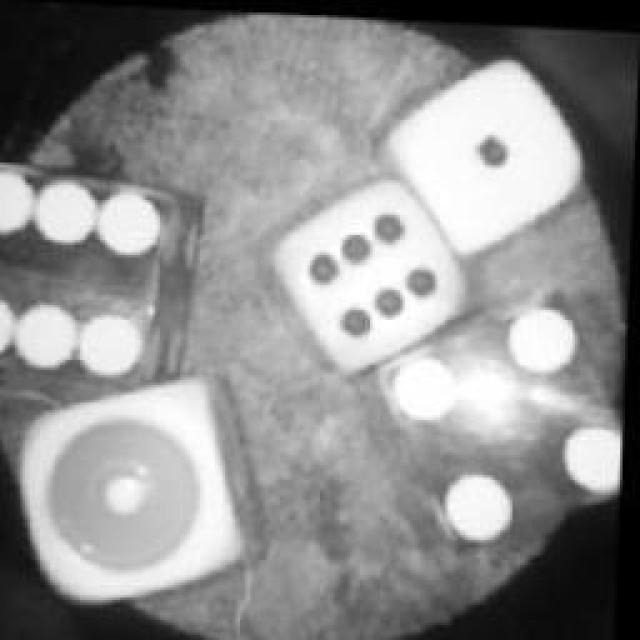dice_1: (13, 378, 265, 604), (390, 50, 592, 245)
dice_4: (386, 285, 629, 555)
dice_6: (0, 160, 190, 398), (283, 179, 475, 369)
